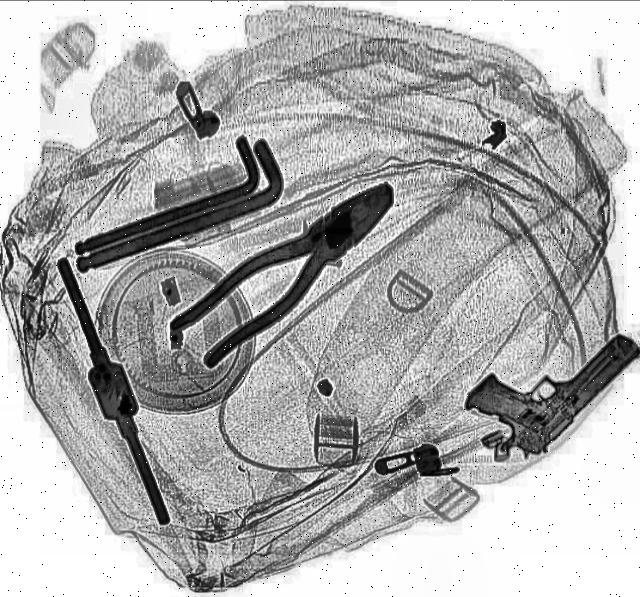Gun: (452, 303, 640, 468)
Pliers: (164, 161, 416, 371)
